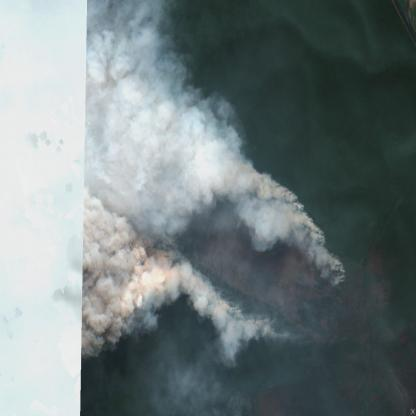fire: (55, 78, 348, 349)
